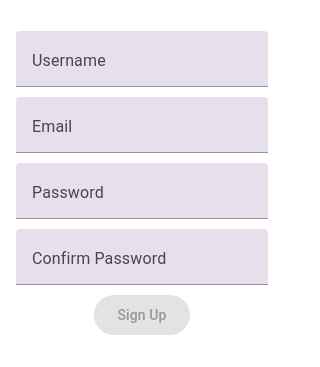
SignUp form › server errors › display string-valued message
In the field named "Username": (142, 59) [16,31,268,87], type "testUser"
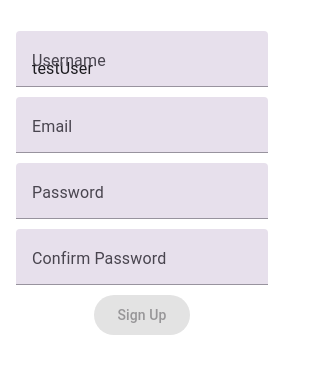
In the field named "Email": (142, 125) [16,97,268,153], type "test@test.com"
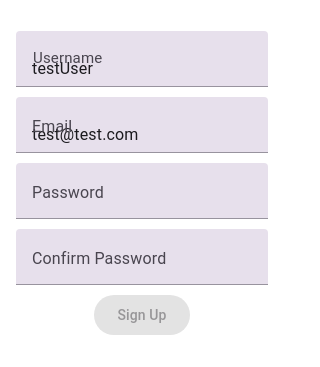
In the password field named "Password": (142, 191) [16,163,268,219], type "password123"
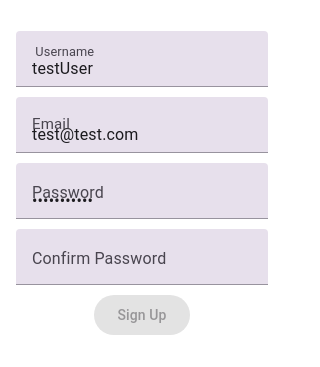
In the password field named "Confirm Password": (142, 257) [16,229,268,285], type "password123"
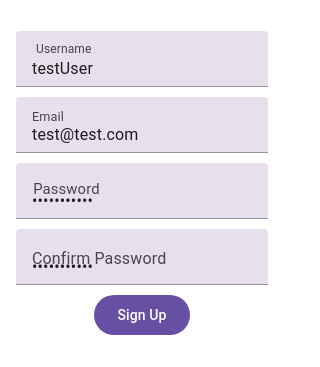
Click the button "Sign Up": (142, 315) [94,295,190,335]
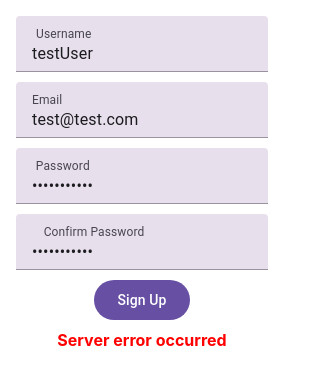
Check: the text "Server error occurred" is shown, box [57,330,227,350]
